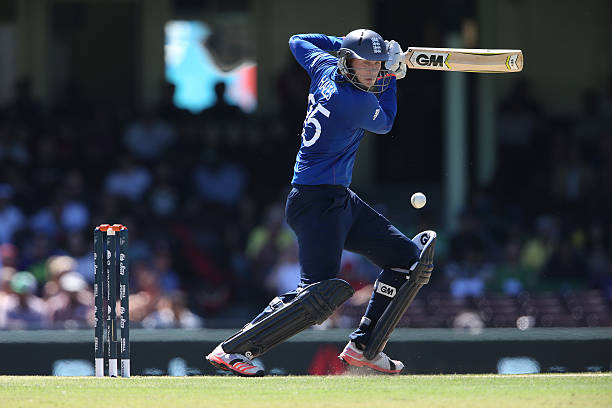bottom left: (514, 44, 526, 59)
bottom right: (511, 63, 532, 77)
top left: (403, 40, 419, 56)
top right: (402, 63, 417, 75)
